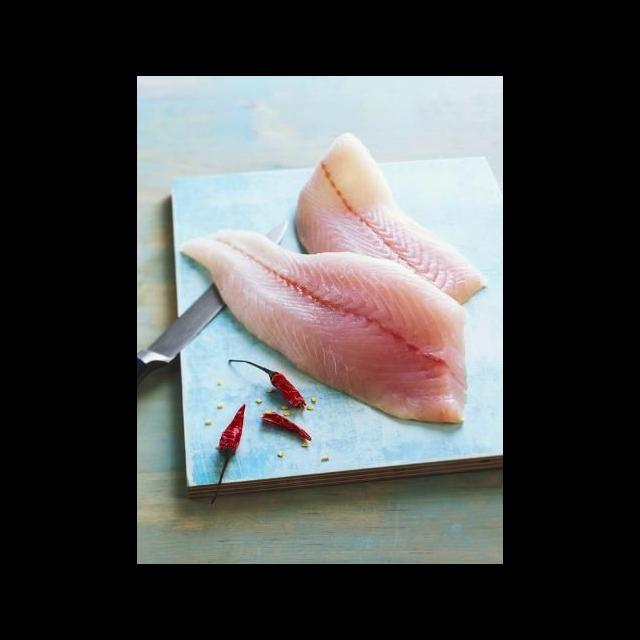fish: (176, 223, 480, 433)
